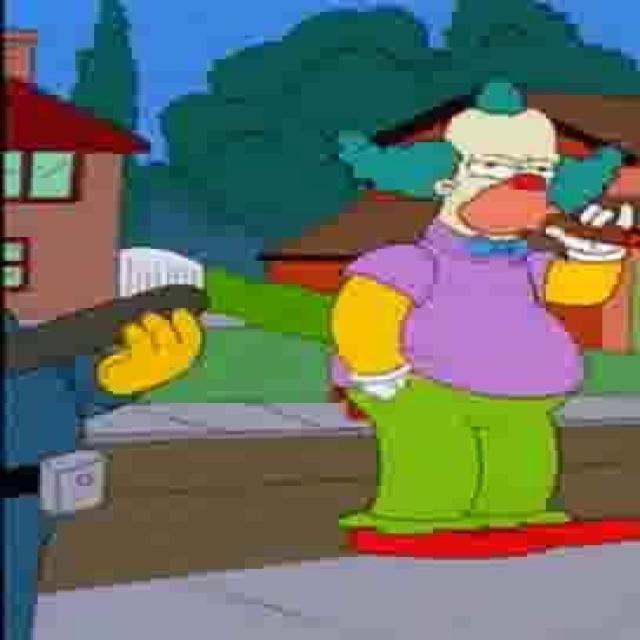Krusty the Clown: (338, 79, 622, 253)
